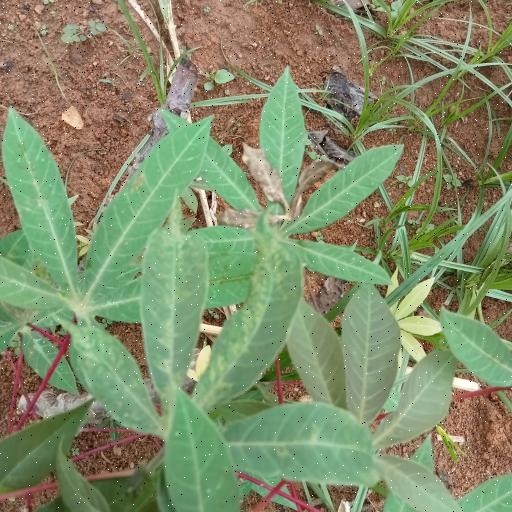Cassava_Mosaic: (0, 110, 251, 419)
